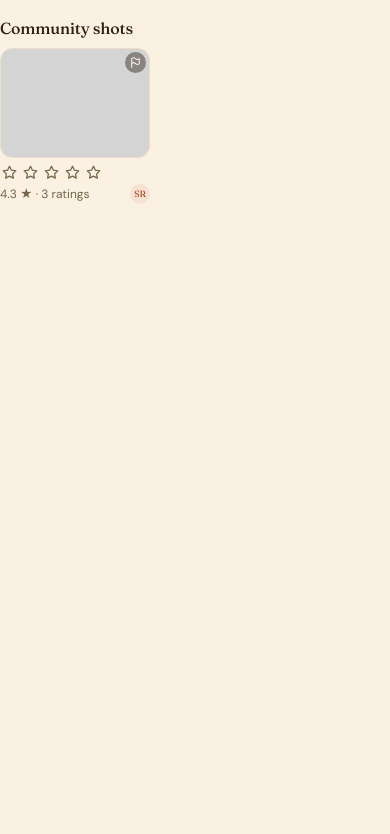
it: blocking a photographer › offers no block on a shot from before refs existed, rather than a dead button
This screenshot has width=390, height=834.
Click the button named "report this shot": (136, 62) [125,52,146,73]
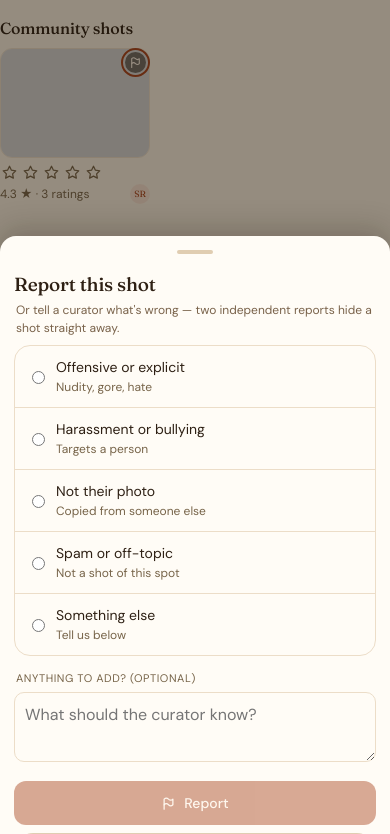
Now the button "Report" is shown, box [14,781,376,825]
